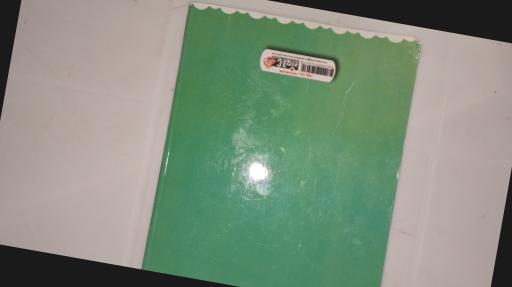notebook: (141, 0, 423, 287)
